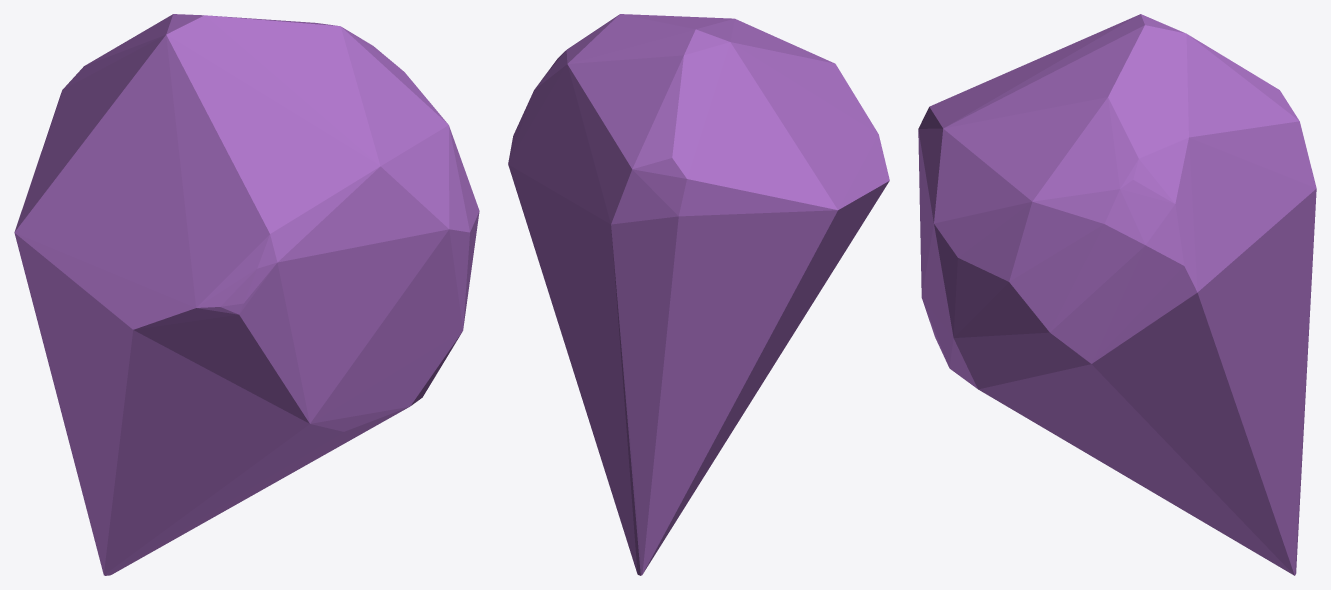
The model's file is food_produce_pear_j01.glb.
The picture shows the model from 3 angles, left to right: view 1: azimuth 30°, elevation 25°; view 2: azimuth 150°, elevation 25°; view 3: azimuth 270°, elevation 25°; orthographic projection. The views are drawn at different scales.
Visible parts, largest first — view 1: geometry_0; view 2: geometry_0; view 3: geometry_0.
Boxes of the visible parts, x1,y1,x2,y2 form: geometry_0: (14,14,479,575); geometry_0: (508,14,889,575); geometry_0: (918,14,1316,575).
Size of the model in its own units: 0.3255 by 0.4779 by 0.3106.
